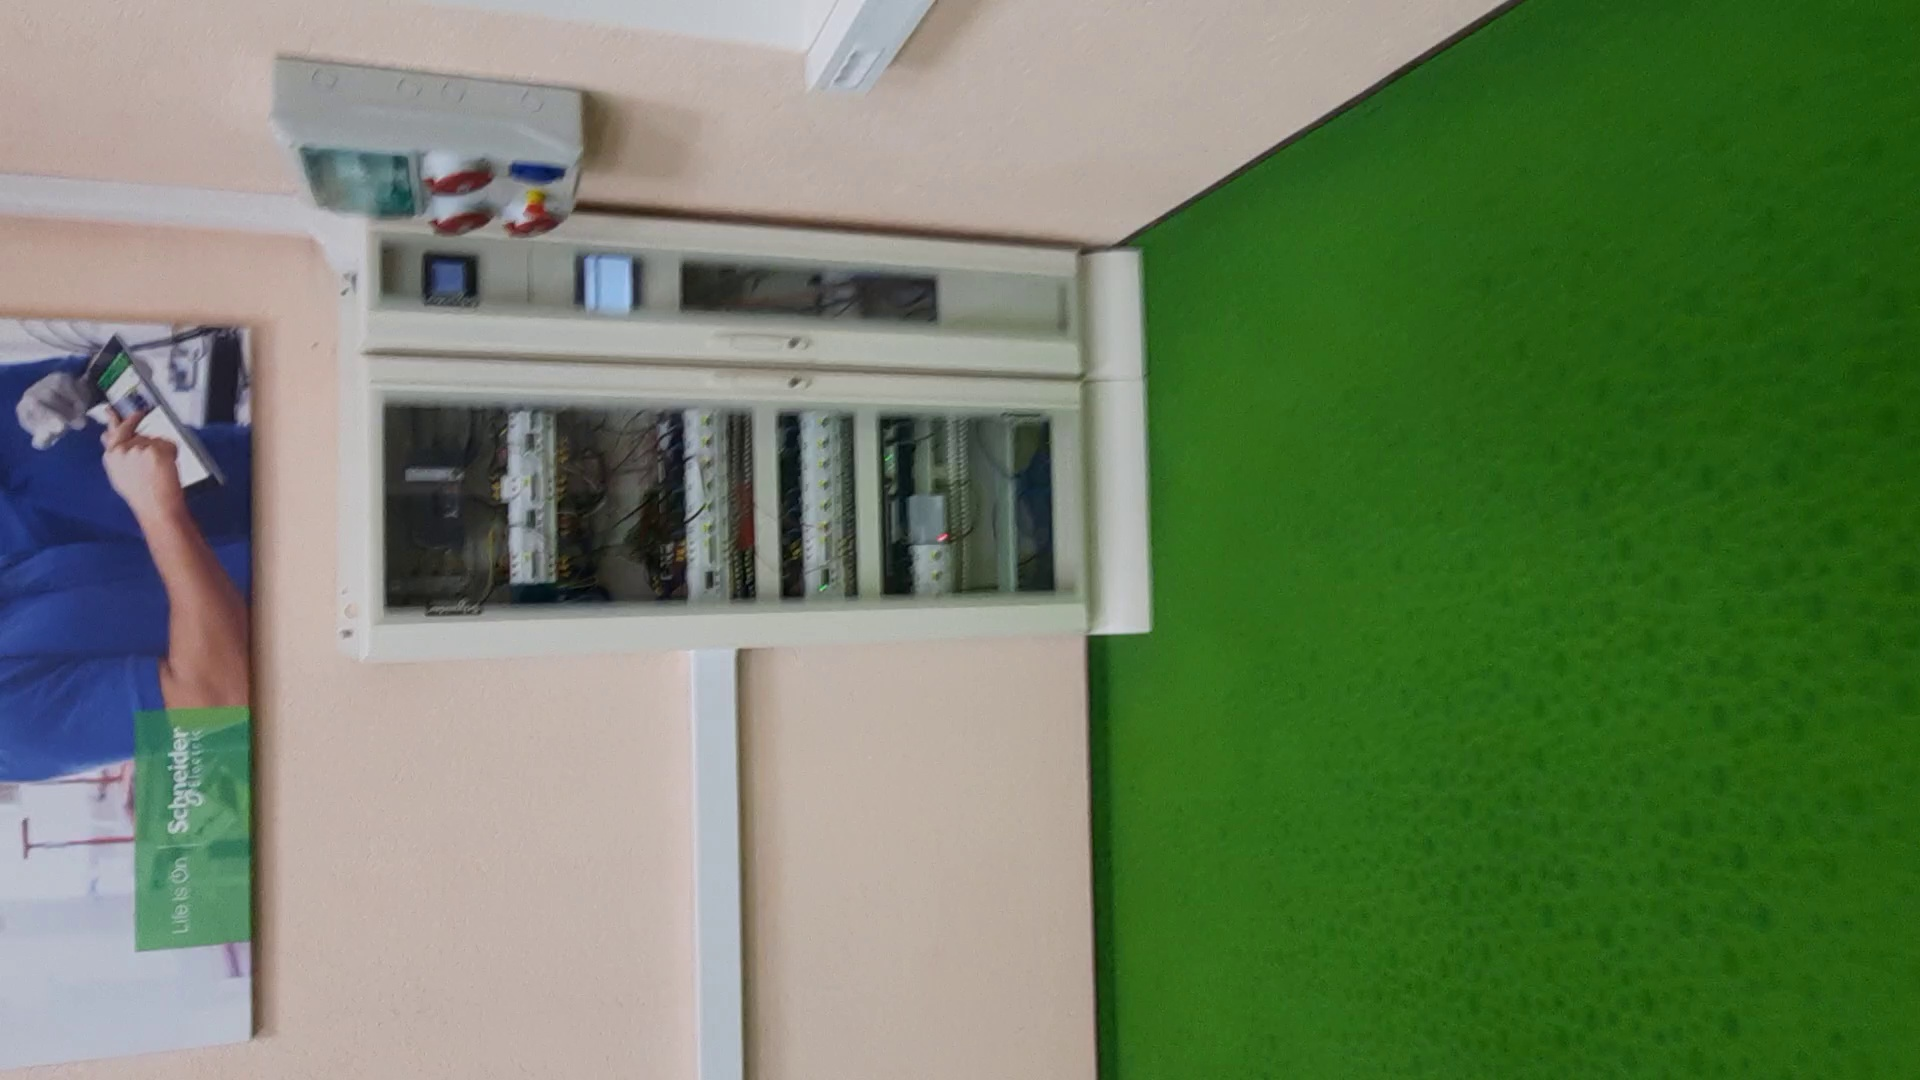stand1: (349, 222, 1153, 655)
